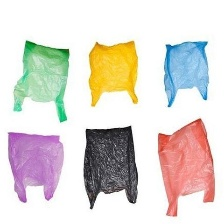plastic_bag: (156, 118, 221, 222), (79, 122, 143, 211), (8, 35, 71, 123), (5, 129, 67, 207), (85, 36, 142, 112), (157, 37, 211, 111)
